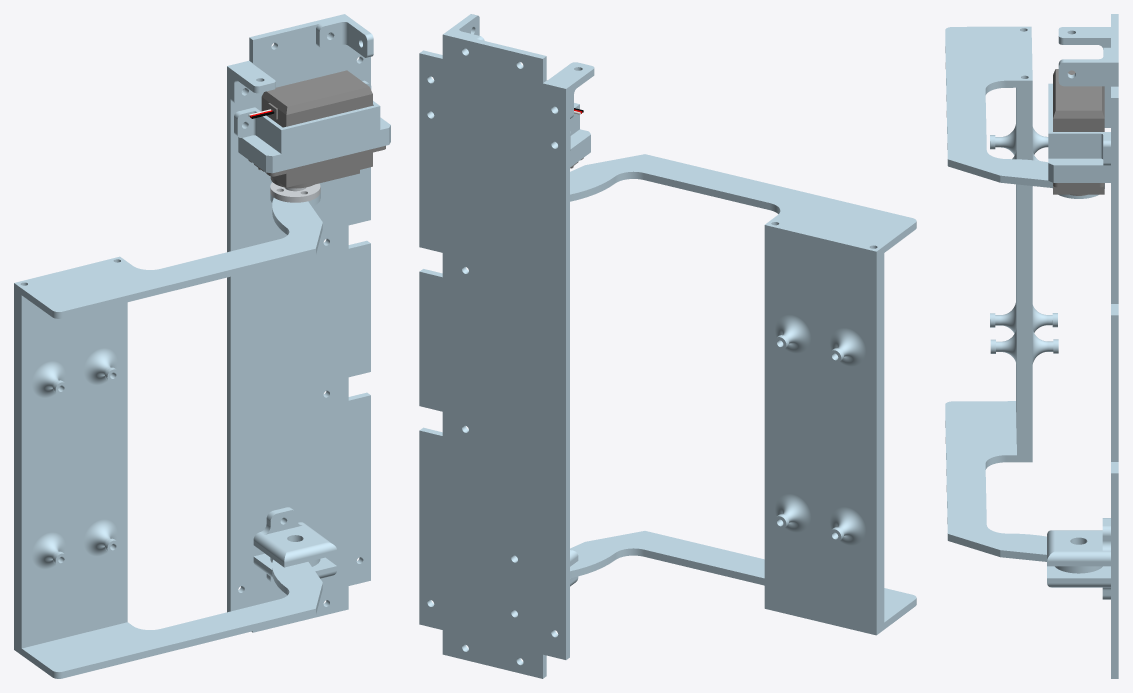
File: Version_pince.gltf
3 renders of one model, left to right at view 1: azimuth 30°, elevation 25°; view 2: azimuth 150°, elevation 25°; view 3: azimuth 270°, elevation 25°, orthographic. The views are drawn at different scales.
Visible parts, largest first — view 1: Part 1 (×9), FS5103B, Palonnier rond; view 2: Part 1 (×6); view 3: Part 1 (×9), FS5103B.
Boxes of the visible parts, bbox=[...] form: Part 1 (×9): bbox=[14, 14, 390, 678]; FS5103B: bbox=[248, 70, 385, 188]; Palonnier rond: bbox=[270, 182, 320, 202]; Part 1 (×6): bbox=[419, 31, 916, 678]; Part 1 (×9): bbox=[945, 14, 1118, 678]; FS5103B: bbox=[1053, 69, 1104, 195].
Bounding box in the file's own units: 0.1817 × 0.2605 × 0.0665.
